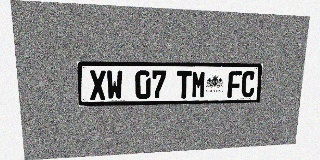0: (135, 70, 151, 99)
7: (151, 70, 166, 99)
C: (241, 71, 256, 97)
F: (227, 71, 242, 98)
M: (191, 71, 206, 98)
T: (176, 71, 192, 99)
W: (106, 70, 123, 100)
X: (89, 70, 106, 100)
